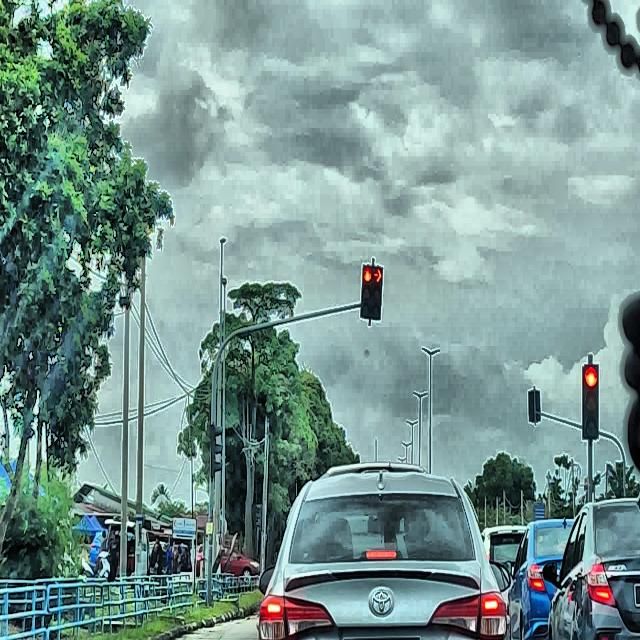red: (582, 363, 598, 440), (360, 264, 373, 318), (372, 266, 383, 320)
